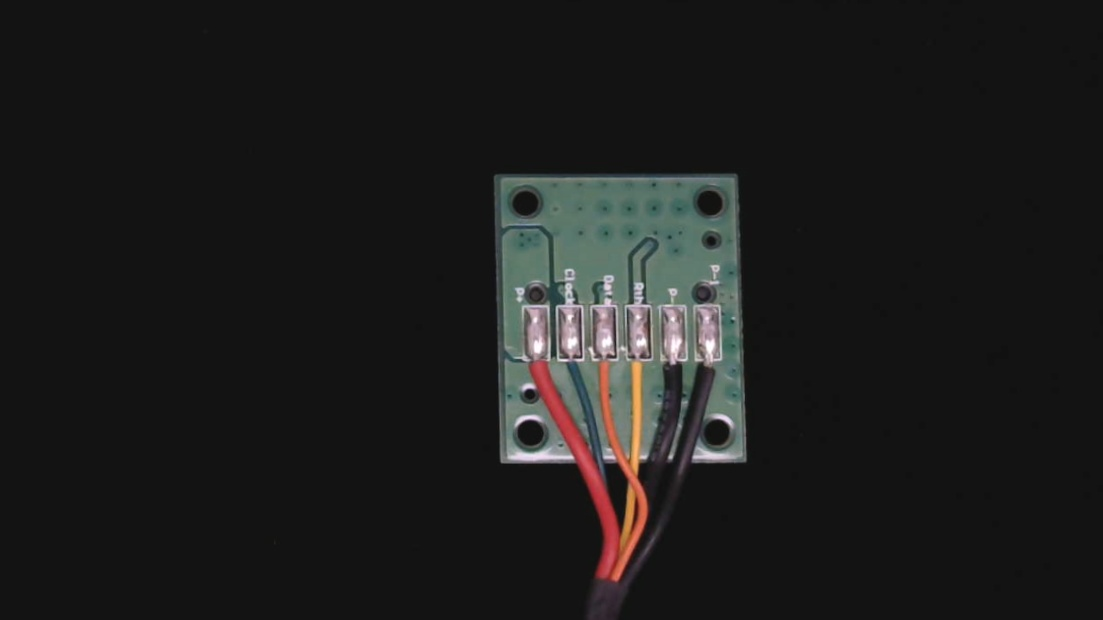Black: (644, 349, 669, 407)
Black1: (677, 349, 705, 408)
Green: (541, 347, 571, 395)
Orange: (576, 348, 603, 405)
Red: (510, 346, 536, 407)
Yellow: (609, 348, 638, 413)
